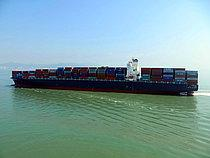Ship: (9, 56, 203, 99)
